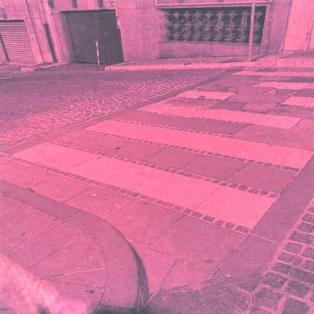Paso de Cebra: (8, 117, 313, 237)
